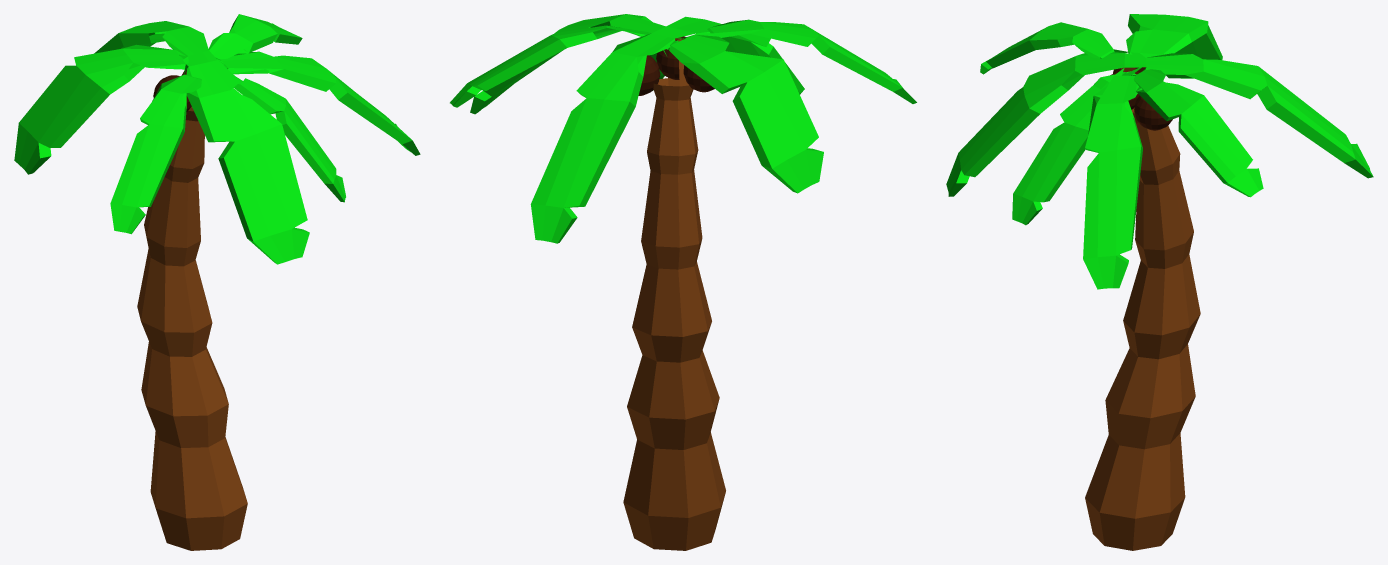
Rendered from palmTree.fbx.
3 renders of one model, left to right at view 1: azimuth 30°, elevation 25°; view 2: azimuth 150°, elevation 25°; view 3: azimuth 270°, elevation 25°, orthographic. The views are drawn at different scales.
Parts seen in each view (by area): view 1: Cube.002; view 2: Cube.002; view 3: Cube.002.
Part boxes in pixels (x1,y1,x2,y2): Cube.002: [14, 14, 420, 550]; Cube.002: [450, 14, 916, 550]; Cube.002: [946, 14, 1373, 550].
Bounding box in the file's own units: 1038 × 1322 × 1072.
